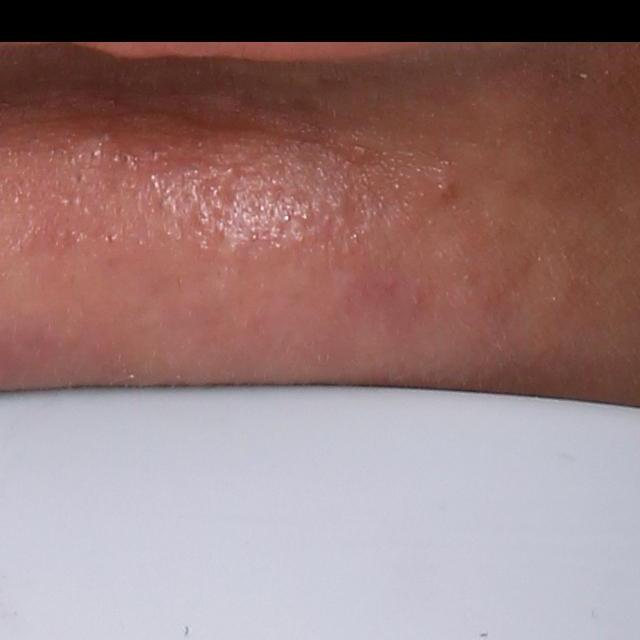papule: (431, 173, 469, 200)
